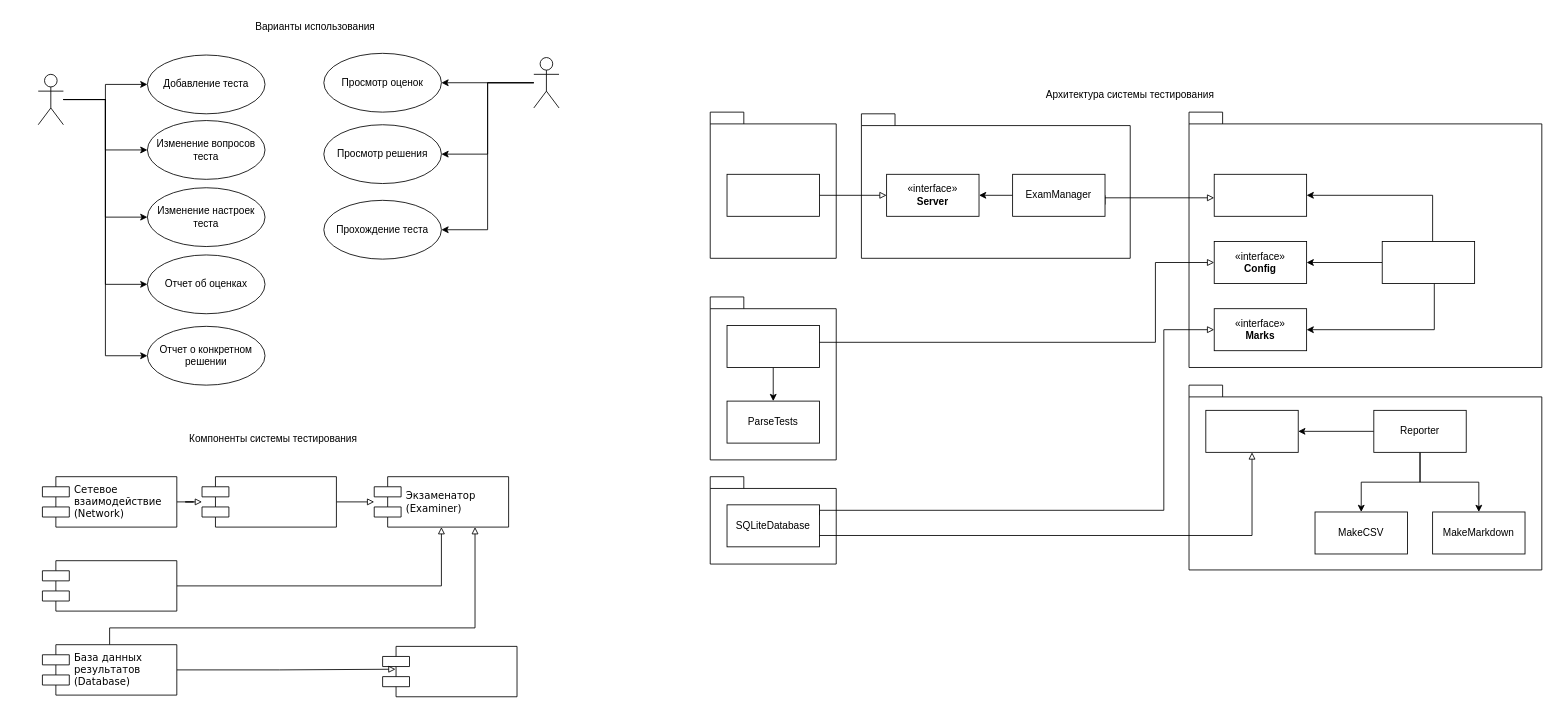
Image size: 1565x711. Some labels were removed from this diagram. Here are the shapes that lost their labels. From the top down, the box of each, then its label:
(37, 74, 63, 125): Администратор
(533, 57, 559, 108): Студент
(726, 173, 819, 216): SocketServer
(1213, 173, 1307, 216): «interface» Manager
(1381, 241, 1475, 284): Examiner
(726, 325, 819, 368): TomlConfig
(1205, 410, 1298, 452): «interface» Statistic
(201, 476, 336, 527): Контроллер экзамена (ExamManager)
(42, 560, 177, 611): Параметры тестов (Configuration)
(382, 646, 517, 697): Генератор отчетов (Reporter)
